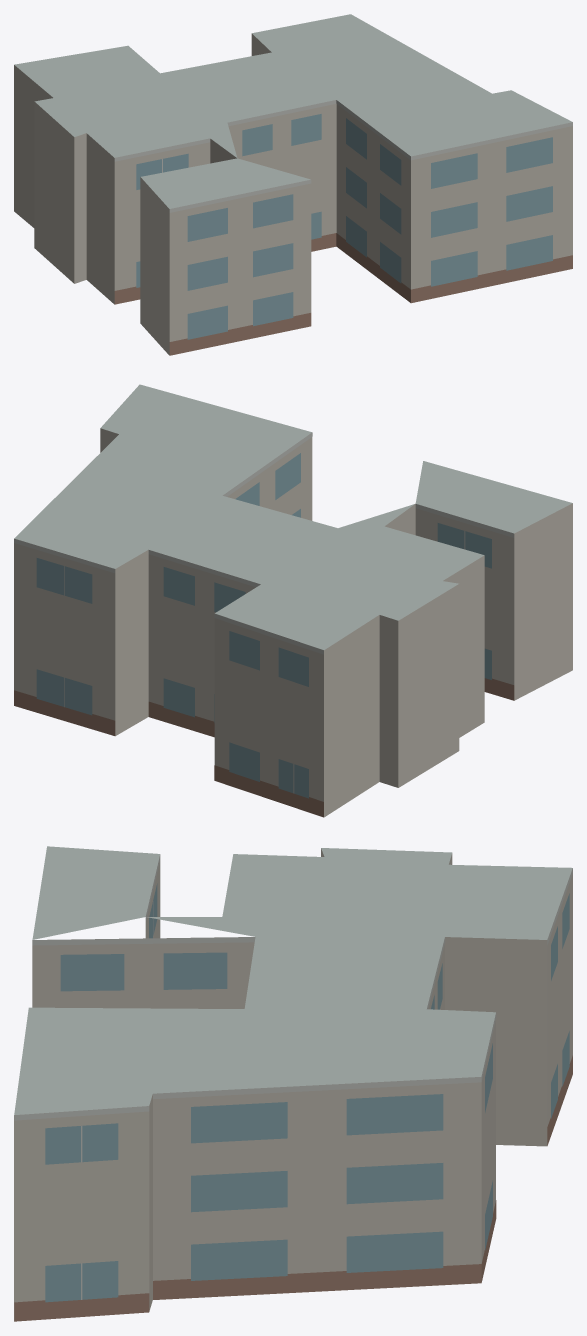
Rendered from survey-upis-32492534.glb.
3 renders of one model, top to bottom at view 1: azimuth 30°, elevation 25°; view 2: azimuth 150°, elevation 25°; view 3: azimuth 270°, elevation 25°, orthographic. The views are drawn at different scales.
Visible parts, largest first — view 1: survey-upis-32492534.tmp; view 2: survey-upis-32492534.tmp; view 3: survey-upis-32492534.tmp.
Boxes of the visible parts, x1=… form: survey-upis-32492534.tmp: x1=14, y1=14, x2=572, y2=355; survey-upis-32492534.tmp: x1=14, y1=384, x2=572, y2=817; survey-upis-32492534.tmp: x1=14, y1=846, x2=572, y2=1321.
Size of the model in its own units: 25.57 by 9.15 by 22.46.
